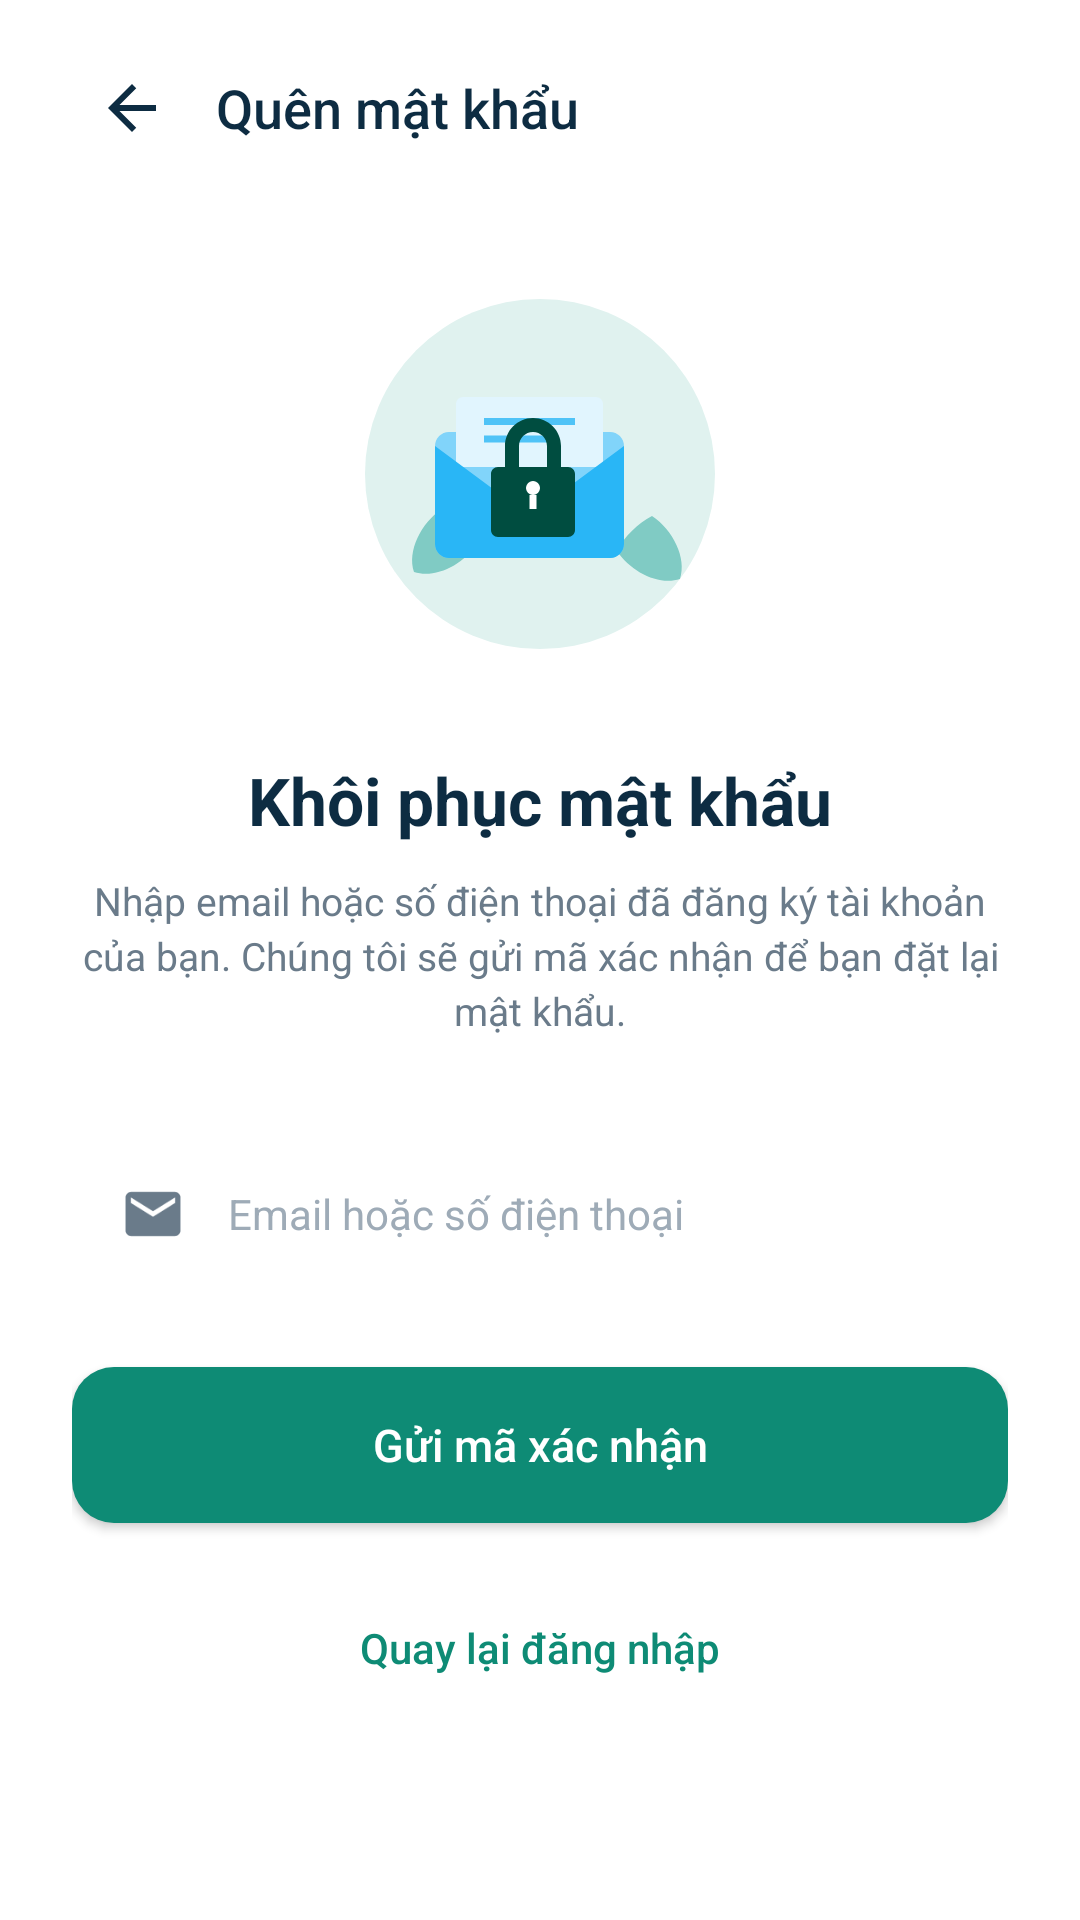

Icons on this 1080 × 1920 Android screen, each with the point to tap as [x,y]:
Email hoặc SĐT: [153,1214]
Quay lại: [132,108]
